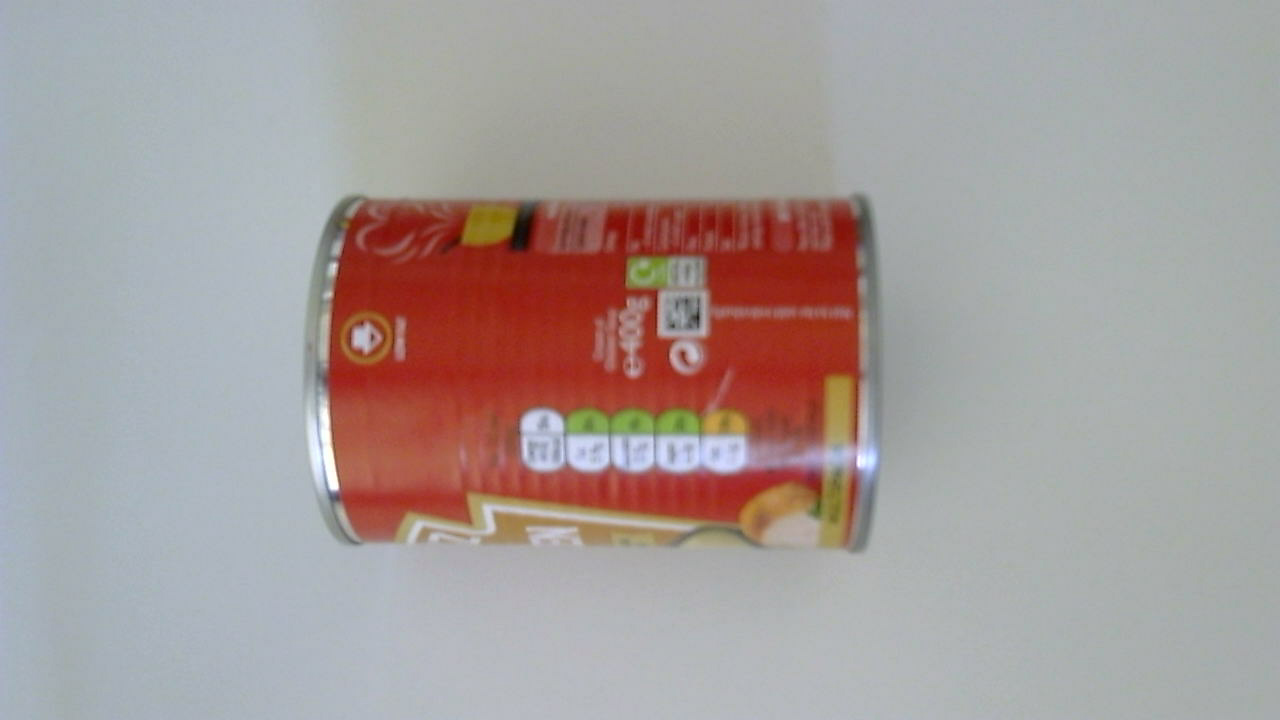Metal Tin: (303, 197, 901, 567)
